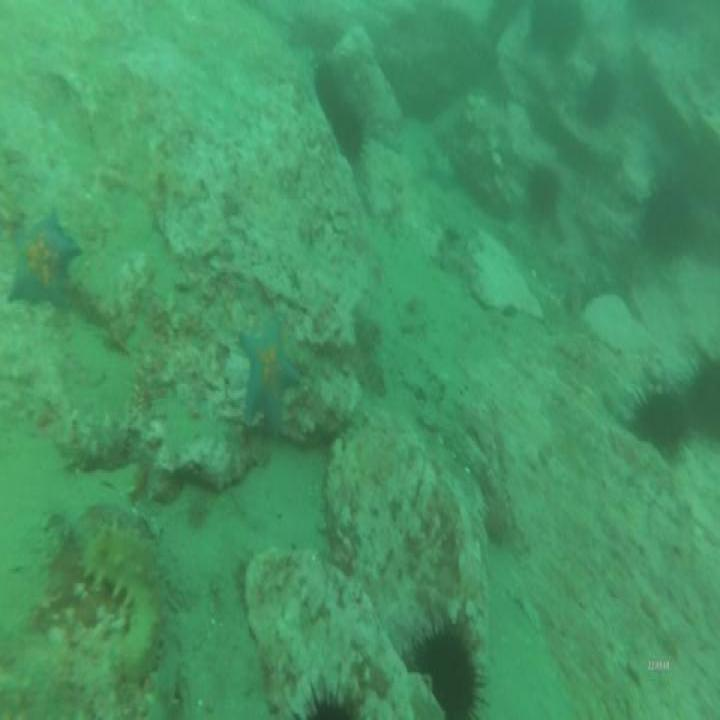echinus: (411, 613, 485, 720), (639, 169, 698, 272), (625, 377, 688, 466), (527, 0, 586, 66), (686, 350, 720, 450), (523, 158, 565, 233), (327, 96, 368, 172), (581, 60, 621, 134), (309, 55, 343, 121)
holothurian: (79, 516, 174, 698), (61, 404, 140, 482)
starfish: (235, 306, 302, 442), (6, 204, 84, 318)
